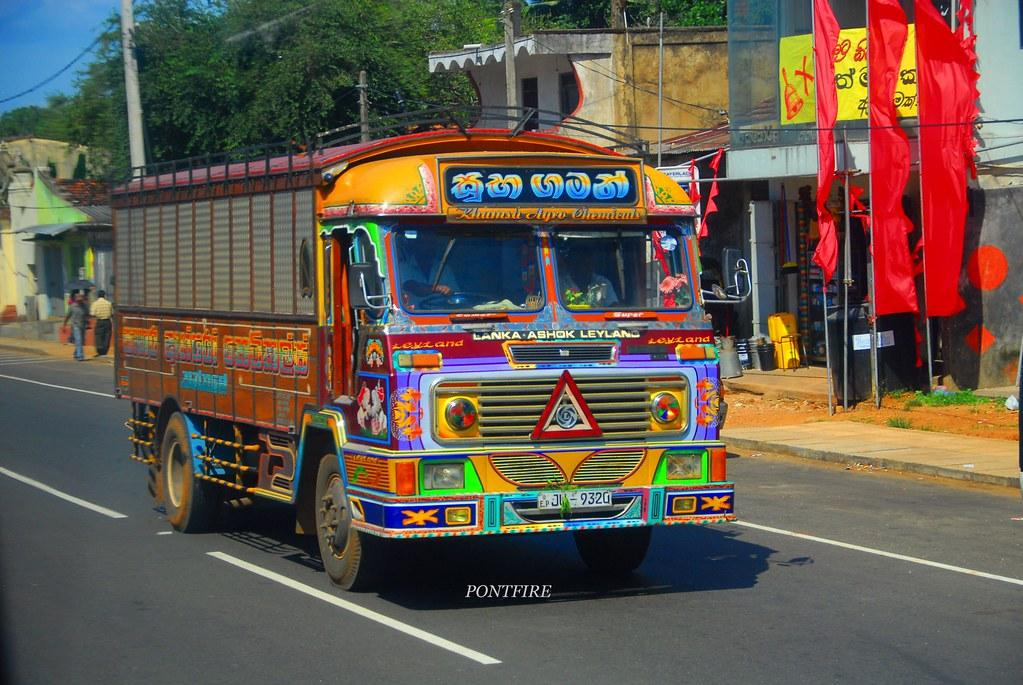truck: (111, 108, 736, 589)
